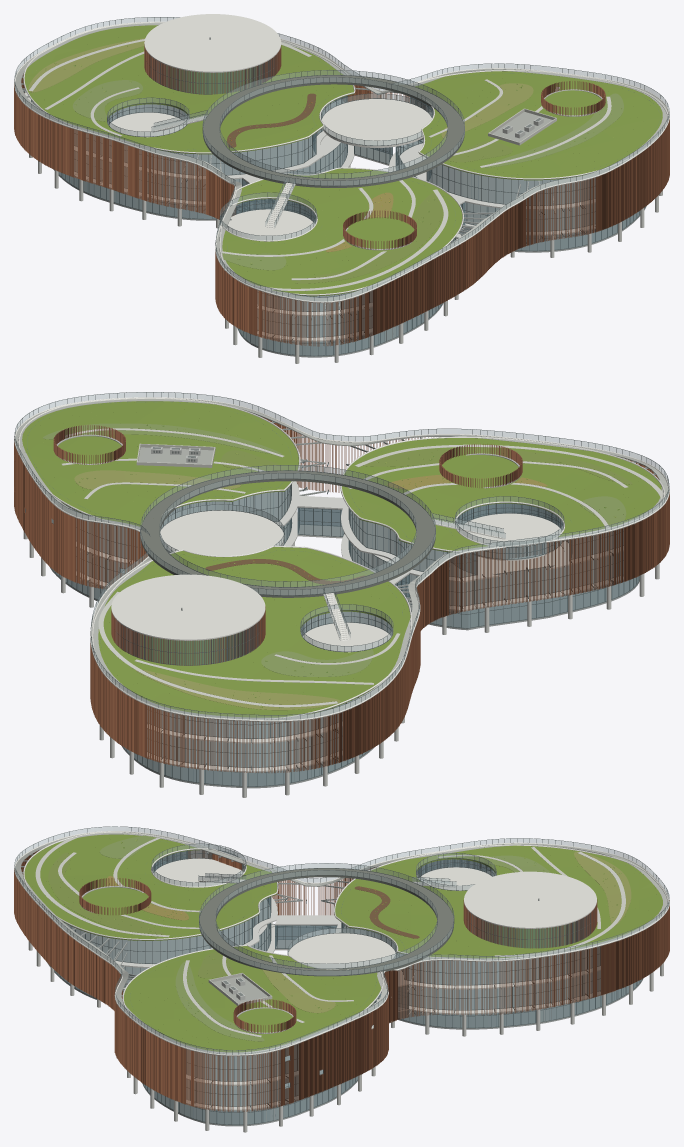
The model's file is fengxian-museum-raw.glb.
3 renders of one model, top to bottom at view 1: azimuth 30°, elevation 25°; view 2: azimuth 150°, elevation 25°; view 3: azimuth 270°, elevation 25°, orthographic. The views are drawn at different scales.
Visible parts, largest first — view 1: 奉贤博物馆2019新馆; view 2: 奉贤博物馆2019新馆; view 3: 奉贤博物馆2019新馆.
Part boxes in pixels (bbox=[...]): 奉贤博物馆2019新馆: bbox=[14, 14, 669, 363]; 奉贤博物馆2019新馆: bbox=[14, 392, 669, 797]; 奉贤博物馆2019新馆: bbox=[14, 826, 669, 1132].
Size of the model in its own units: 109 by 21.47 by 129.
